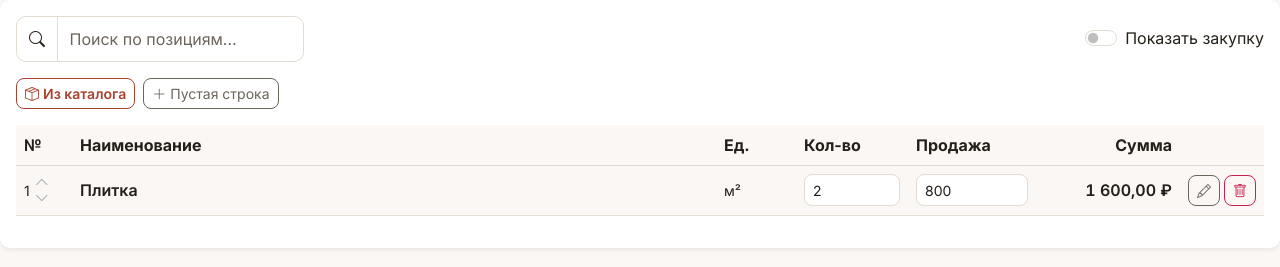
Scenario: EstimateItemsTable › reverts garbage on blur and never commits
Replace the text in the field named "Количество" with "abc". click: x=852, y=190
box: [804,174,900,206]
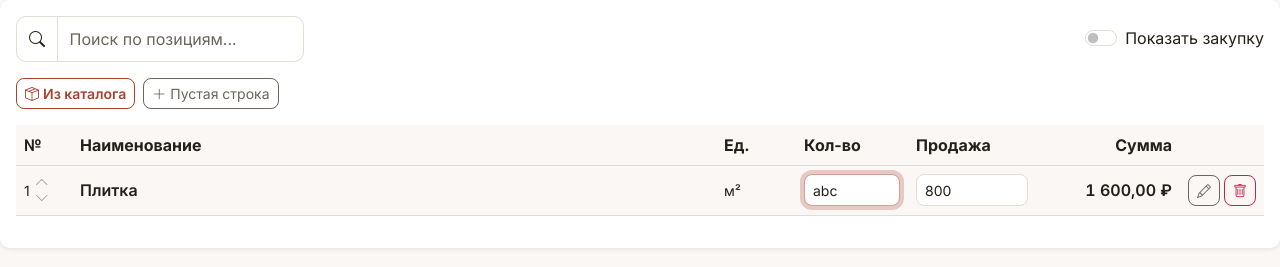
Leave the field named "Количество", box [804,174,900,206]
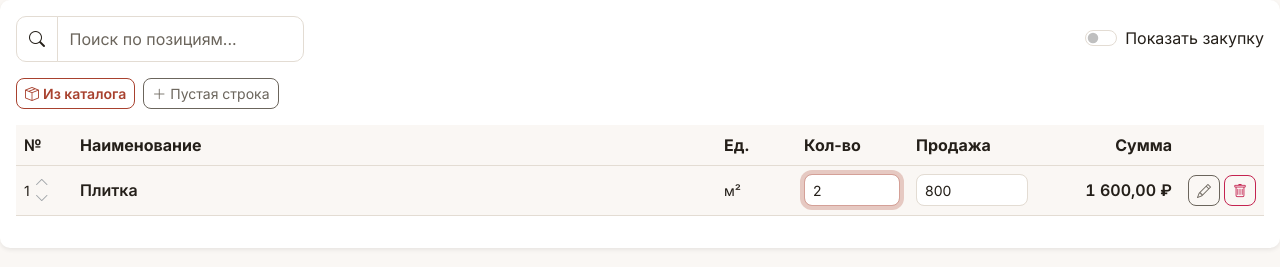
Now the field named "Количество" holds "2", box [804,174,900,206]
